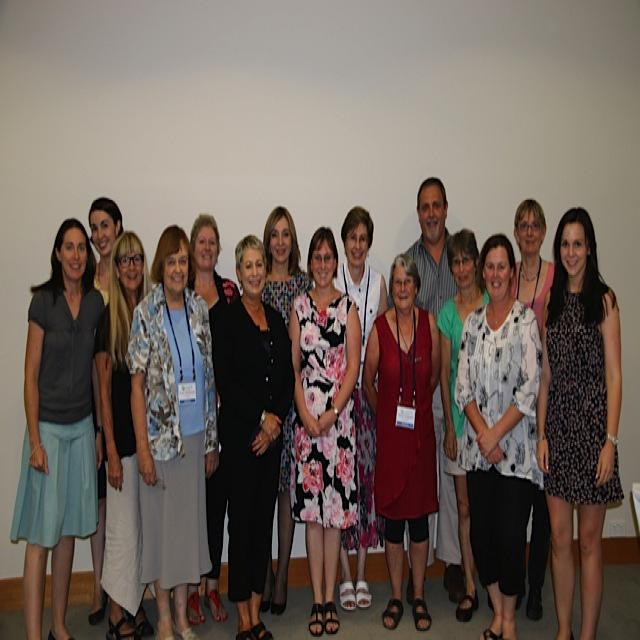body: (7, 214, 109, 638), (123, 221, 222, 638), (533, 204, 624, 638), (452, 230, 547, 638), (211, 230, 297, 638), (361, 248, 442, 632), (287, 224, 362, 637), (91, 228, 158, 640), (182, 213, 242, 630), (435, 225, 496, 622), (333, 205, 390, 614), (258, 206, 313, 620), (86, 195, 137, 631), (508, 197, 557, 622), (386, 174, 464, 316)
